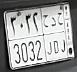0: (20, 23, 28, 63)
3: (9, 16, 21, 66)
D: (50, 16, 60, 54)
J: (42, 14, 52, 56), (58, 13, 66, 53)
